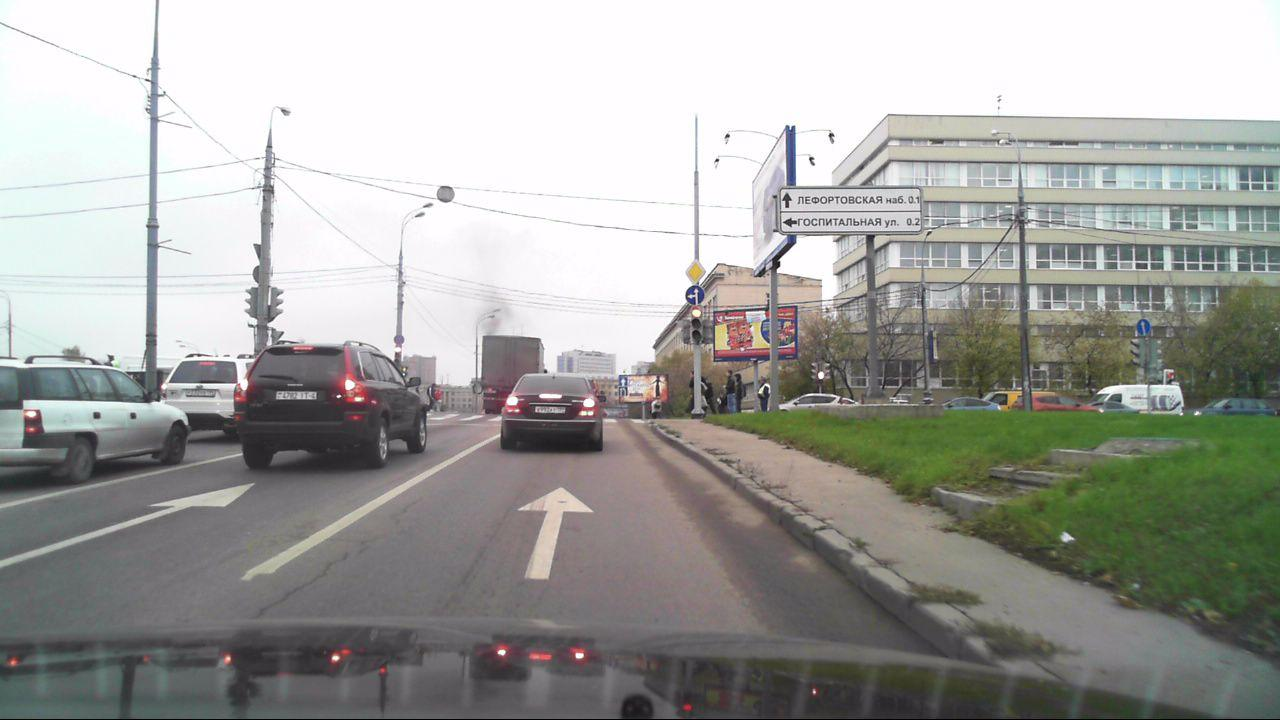off traffic light: (1130, 338, 1147, 369), (270, 287, 285, 320), (243, 287, 258, 320)
road_sign: (683, 258, 707, 286), (684, 283, 705, 306), (1136, 318, 1152, 336)
traffic light: (691, 306, 703, 342)
